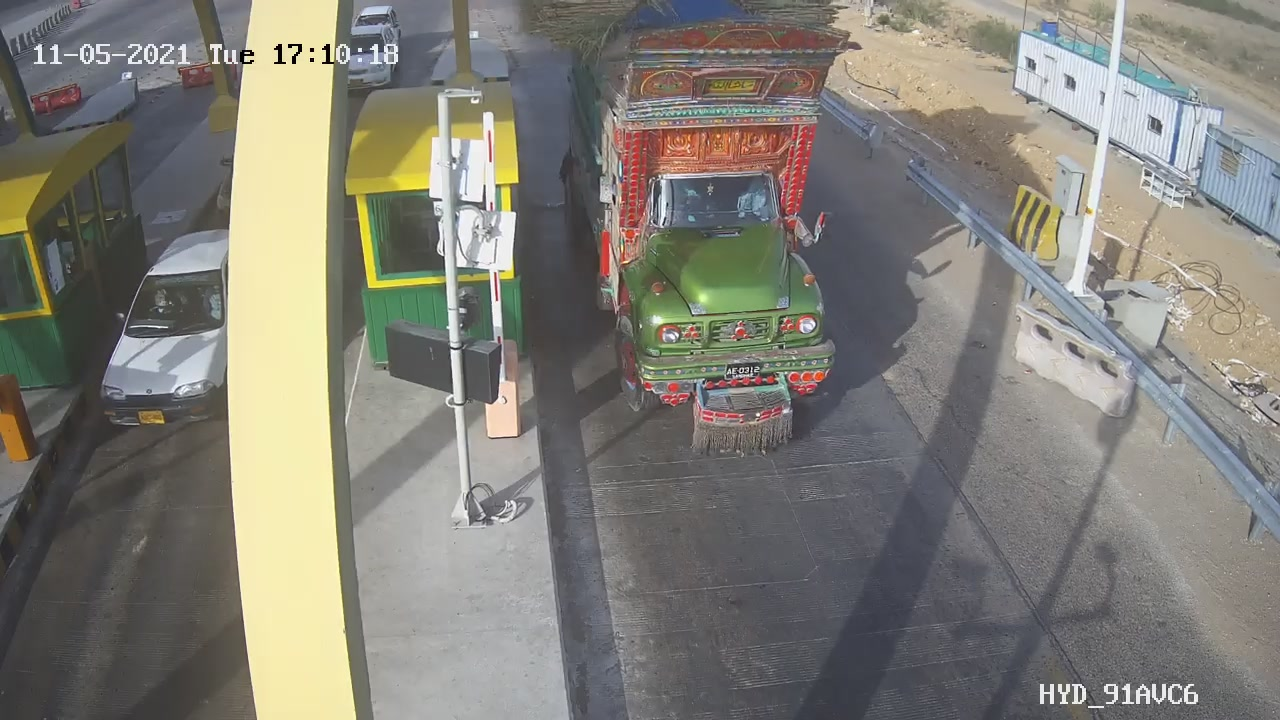F5: (518, 1, 895, 481)
